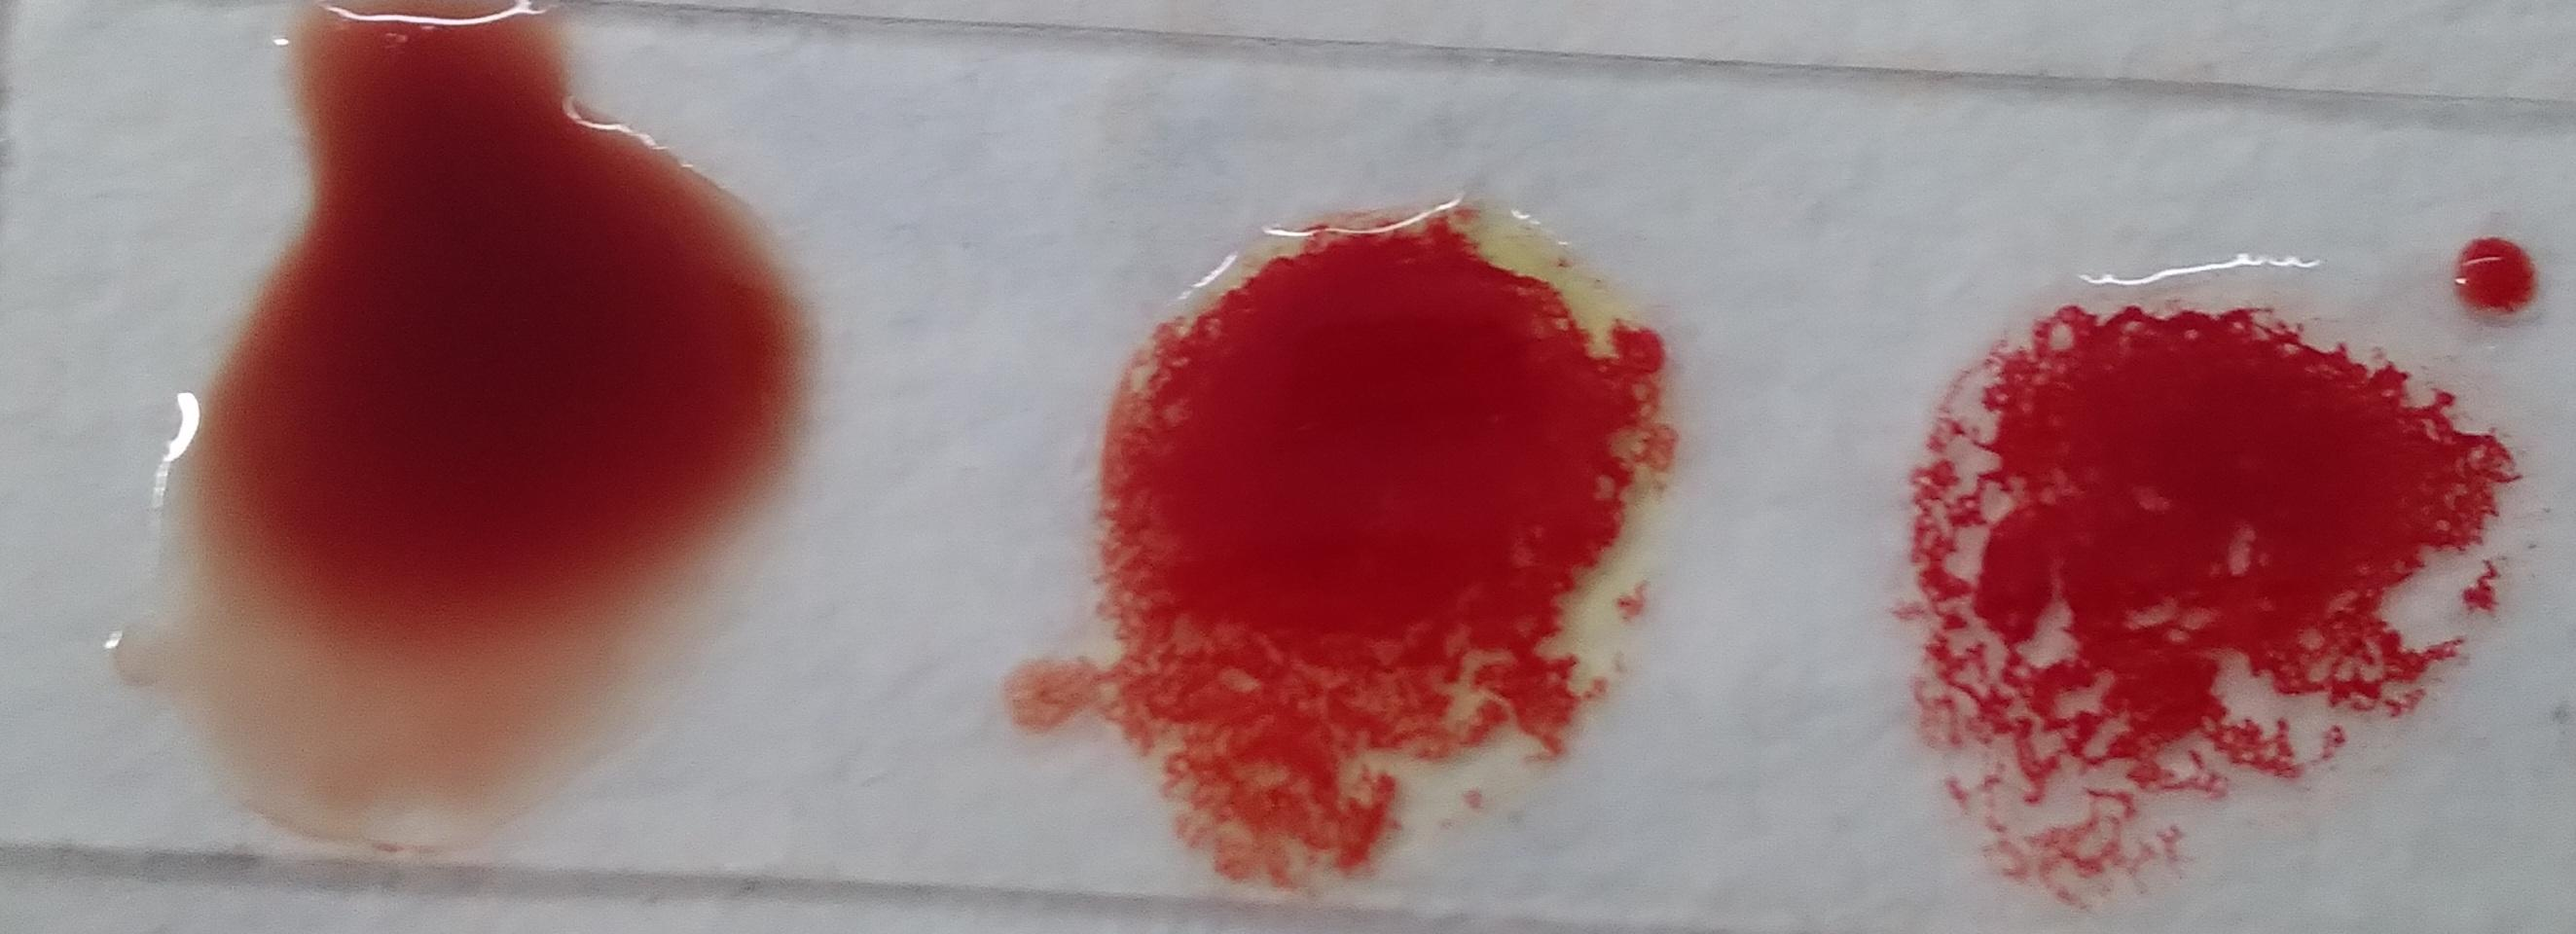B: (897, 54, 1493, 752)
D: (77, 41, 687, 688)
